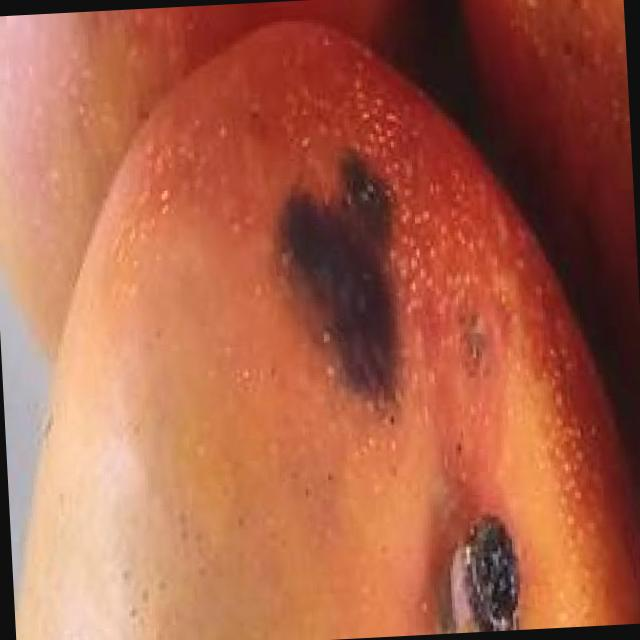Mango: (0, 2, 640, 640), (0, 0, 481, 376), (459, 0, 640, 387)
